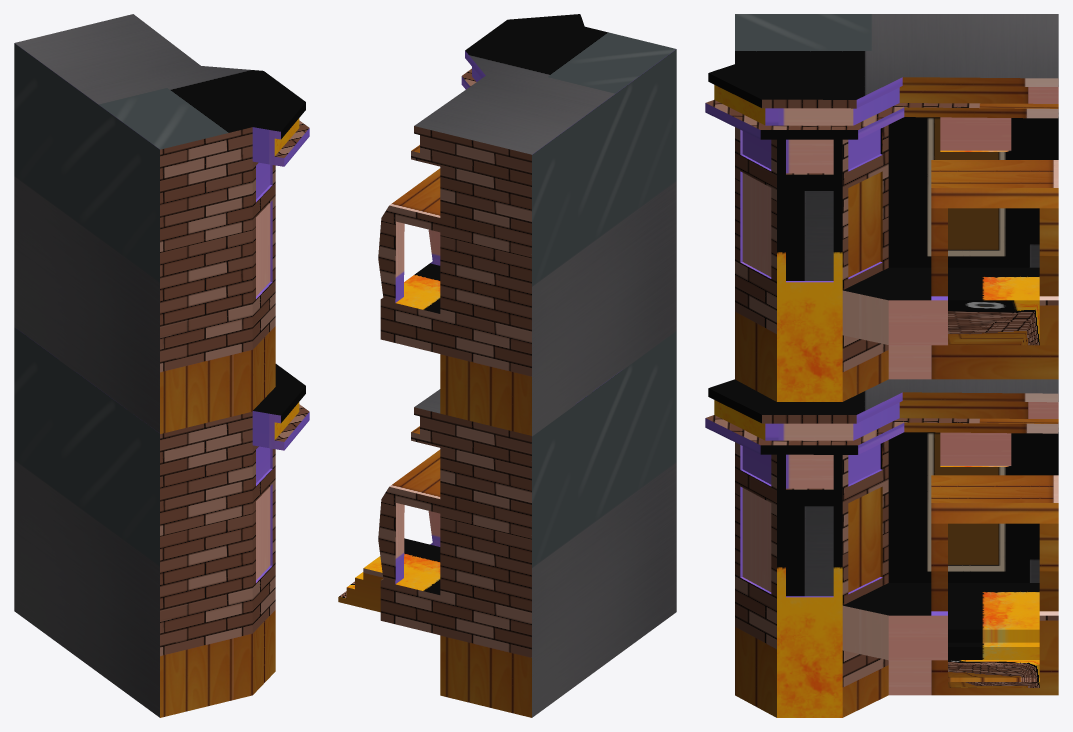
Rendered from TwoFlatLevel3.fbx.
3 views of the same model, side by side, from view 1: azimuth 30°, elevation 25°; view 2: azimuth 150°, elevation 25°; view 3: azimuth 270°, elevation 25° (orthographic). The views are drawn at different scales.
Visible parts, largest first — view 1: TwoFlatA.001, TwoFlatA.002; view 2: TwoFlatA.001, TwoFlatA.002; view 3: TwoFlatA.001, TwoFlatA.002.
Part boxes in pixels (x1,y1,x2,y2): TwoFlatA.001: (14, 14, 309, 433); TwoFlatA.002: (14, 327, 309, 717); TwoFlatA.001: (378, 14, 676, 436); TwoFlatA.002: (338, 331, 676, 717); TwoFlatA.001: (705, 14, 1058, 401); TwoFlatA.002: (705, 379, 1058, 717).
Bounding box in the file's own units: 440 × 1172 × 595.
